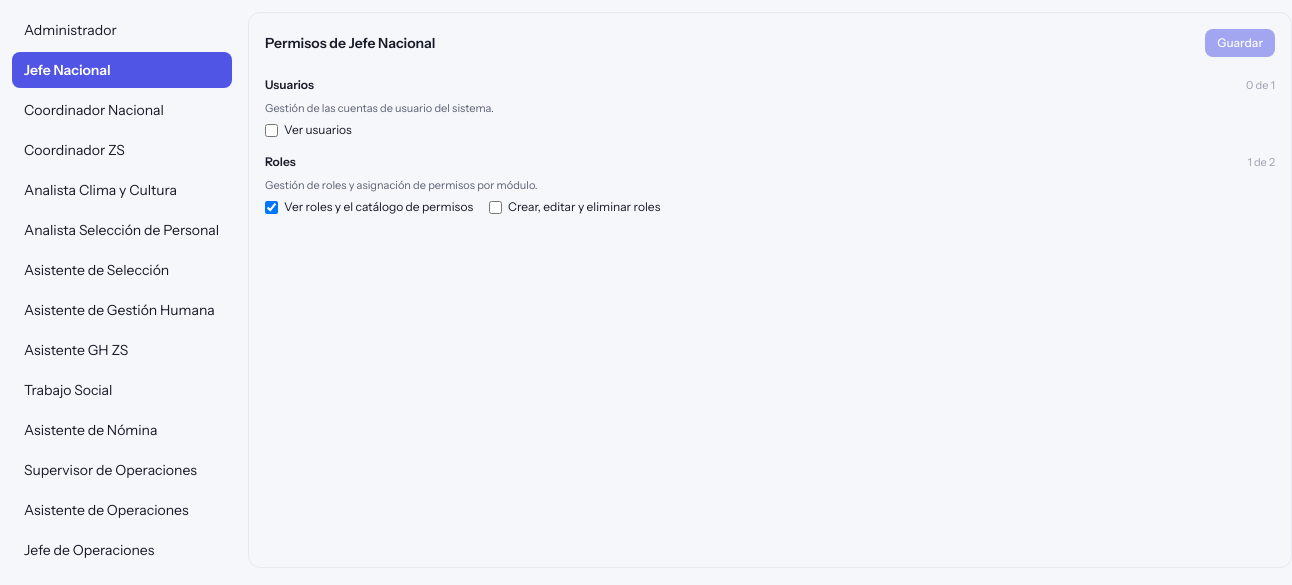
it: RolesPermissionsManager › la fila de Administrador se muestra completa y no editable, sin botón Guardar
The image size is (1292, 585).
Check: the heading "Permisos de Jefe Nacional" is shown, box x1=265 y1=33 x2=436 y2=53
Click the button "Administrador" at {"x": 122, "y": 30}, box x1=12 y1=12 x2=232 y2=48
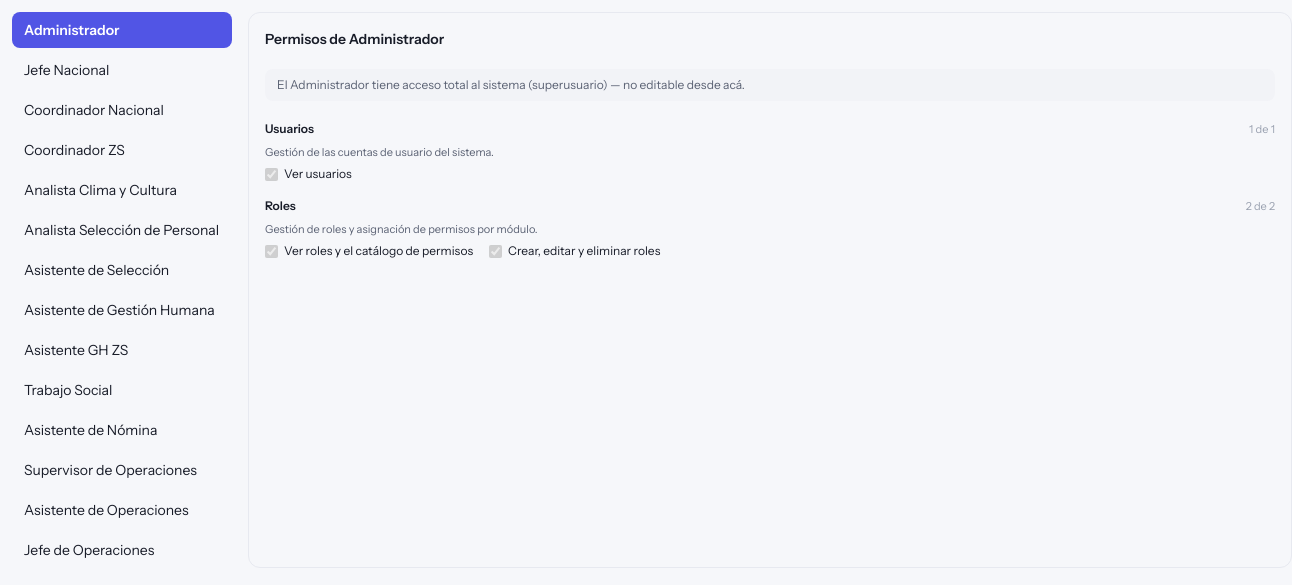
Check: the heading "Permisos de Administrador" is shown, box x1=265 y1=29 x2=444 y2=49
Check: the text "acceso total al sistema (superusuario)" is shown, box x1=277 y1=77 x2=745 y2=92
Check: the checkbox labelled "Ver usuarios" is checked, box x1=265 y1=168 x2=278 y2=180
